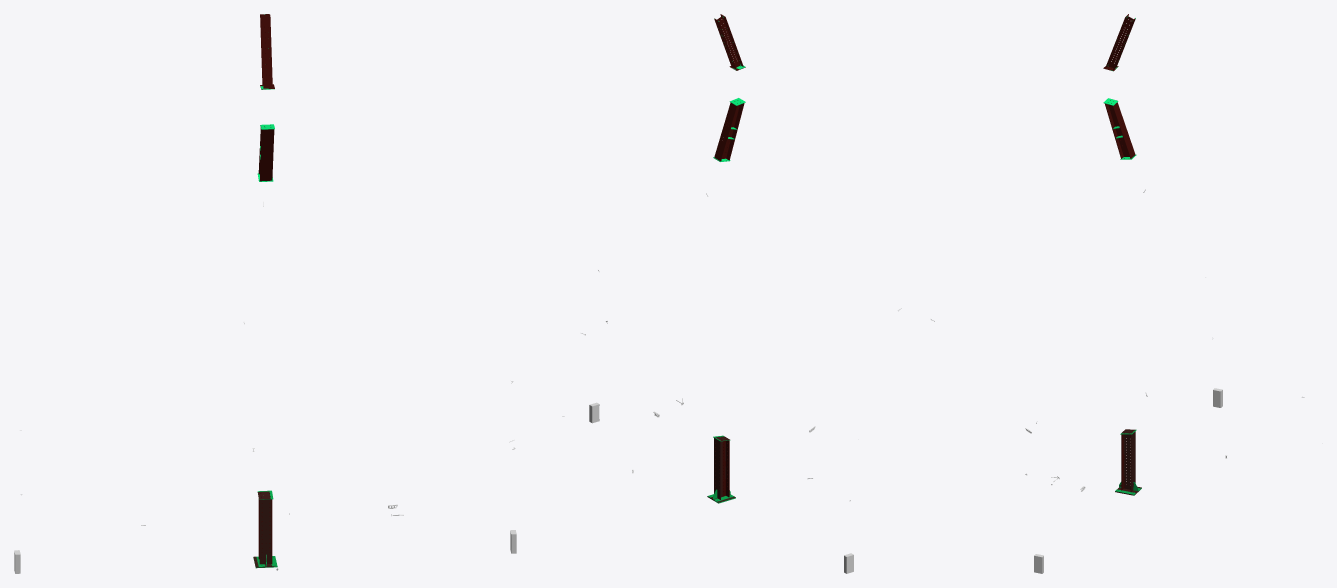
The model's file is Assembly_and_disassembly.glb.
3 renders of one model, left to right at view 1: azimuth 30°, elevation 25°; view 2: azimuth 150°, elevation 25°; view 3: azimuth 270°, elevation 25°, orthographic. The views are drawn at different scales.
Parts seen in each view (by area): view 1: C1.1 C1.1 [8569544], C2 C2 [8569595], C1.2 C1.2 [8569581]; view 2: C1.1 C1.1 [8569544], C1.2 C1.2 [8569581], C2 C2 [8569595]; view 3: C1.1 C1.1 [8569544], C1.2 C1.2 [8569581], C2 C2 [8569595].
Boxes of the visible parts, bbox=[...] form: C1.1 C1.1 [8569544]: bbox=[253, 490, 277, 568]; C2 C2 [8569595]: bbox=[260, 14, 274, 89]; C1.2 C1.2 [8569581]: bbox=[257, 124, 274, 181]; C1.1 C1.1 [8569544]: bbox=[707, 435, 735, 503]; C1.2 C1.2 [8569581]: bbox=[713, 98, 745, 161]; C2 C2 [8569595]: bbox=[714, 14, 745, 70]; C1.1 C1.1 [8569544]: bbox=[1115, 429, 1141, 495]; C1.2 C1.2 [8569581]: bbox=[1103, 98, 1136, 159]; C2 C2 [8569595]: bbox=[1103, 14, 1135, 71].
Size of the model in its own units: 7.61 by 9.82 by 7.37.
3 materials, 2 textured.
